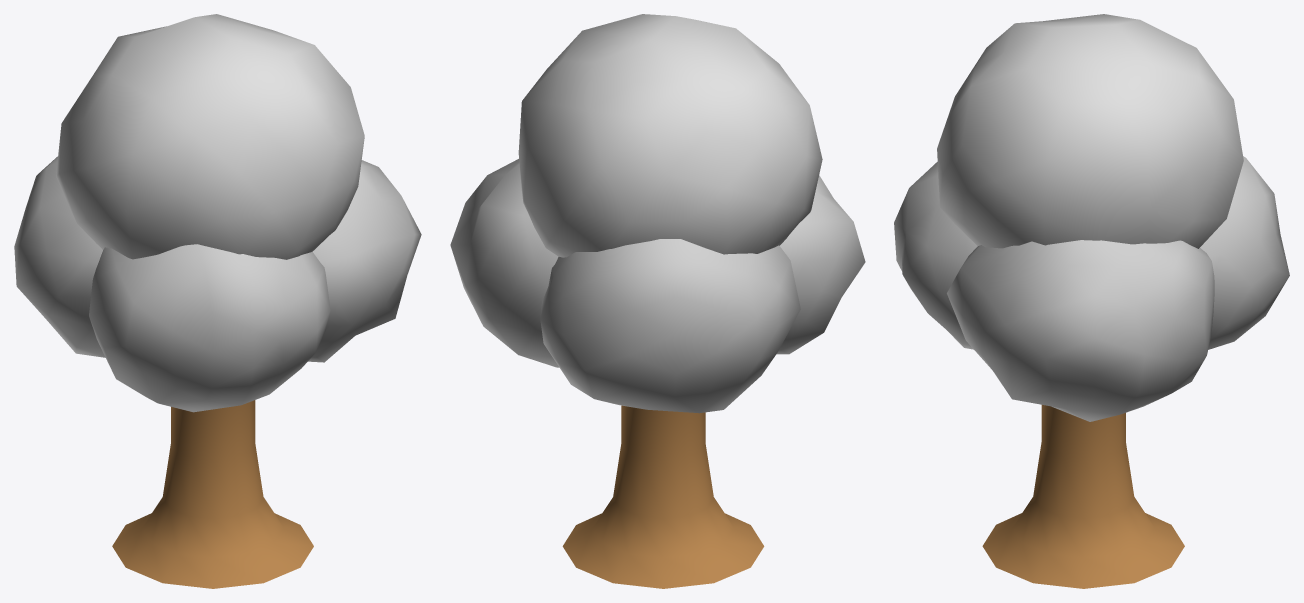
The model's file is fruitTree.glb.
3 renders of one model, left to right at view 1: azimuth 30°, elevation 25°; view 2: azimuth 150°, elevation 25°; view 3: azimuth 270°, elevation 25°, orthographic.
Parts seen in each view (by area): view 1: canopy, trunk; view 2: canopy, trunk; view 3: canopy, trunk.
Part boxes in pixels (<box>): canopy: <box>14,14,421,412</box>; trunk: <box>112,400,313,588</box>; canopy: <box>450,14,865,413</box>; trunk: <box>562,405,764,588</box>; canopy: <box>894,14,1289,421</box>; trunk: <box>982,405,1184,588</box>.
Size of the model in its own units: 1.16 by 1.7 by 1.17.
